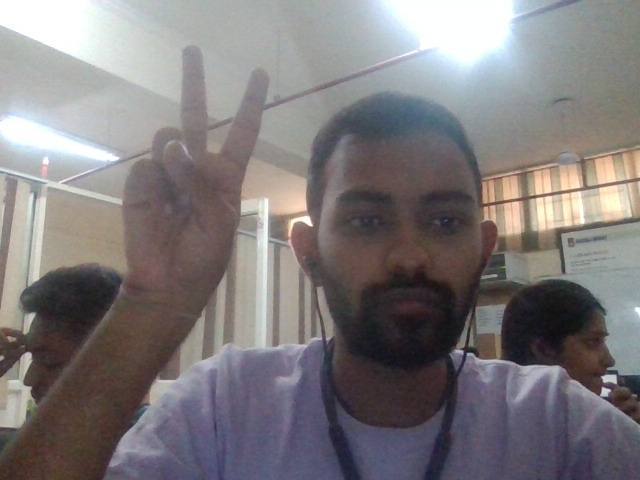ThankYou: (119, 45, 270, 302)
